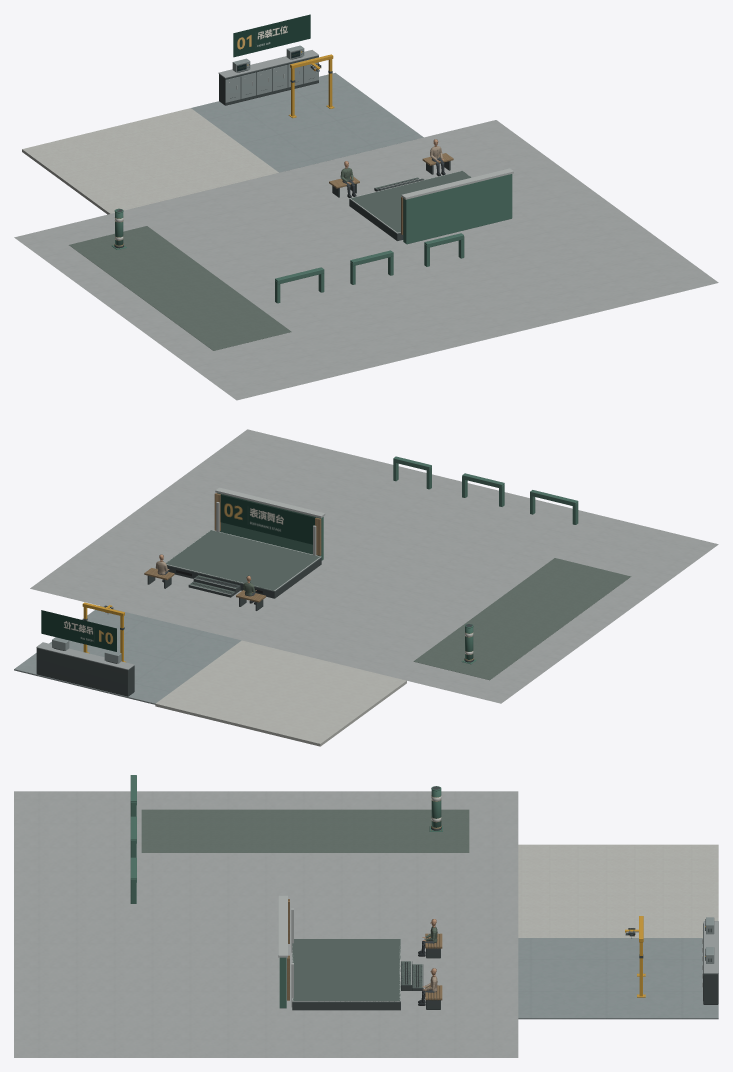
Rendered from drive-nearfield.glb.
The picture shows the model from 3 angles, top to bottom: view 1: azimuth 30°, elevation 25°; view 2: azimuth 150°, elevation 25°; view 3: azimuth 270°, elevation 25°; orthographic projection. The views are drawn at different scales.
Parts seen in each view (by area): view 1: NF_YardFloor, NF_GalleryFloor, NF_LabFloor, NF_SlalomLane, NF_StageBackdrop, NF_LabBench, NF_StageDeck, NF_LabSign, NF_GateHeaders, NF_HoistStatic; view 2: NF_YardFloor, NF_GalleryFloor, NF_SlalomLane, NF_LabFloor, NF_StageDeck, NF_StageBackdrop, NF_LabBench, NF_LabSign, NF_GateHeaders, NF_Seats, NF_HoistStatic; view 3: NF_YardFloor, NF_GalleryFloor, NF_LabFloor, NF_SlalomLane, NF_StageDeck, NF_StageBackdrop, NF_LabBench, NF_GateHeaders, NF_Seats, NF_PillarTemplate, NF_HoistStatic.
Part boxes in pixels (left/top/right/bottom): NF_YardFloor: left=14, top=120, right=718, bottom=400; NF_GalleryFloor: left=22, top=108, right=278, bottom=214; NF_LabFloor: left=191, top=72, right=423, bottom=172; NF_SlalomLane: left=69, top=226, right=291, bottom=350; NF_StageBackdrop: left=401, top=168, right=513, bottom=244; NF_LabBench: left=218, top=45, right=318, bottom=105; NF_StageDeck: left=349, top=170, right=471, bottom=240; NF_LabSign: left=233, top=14, right=310, bottom=57; NF_GateHeaders: left=275, top=233, right=464, bottom=303; NF_HoistStatic: left=288, top=54, right=334, bottom=118; NF_YardFloor: left=30, top=429, right=718, bottom=703; NF_GalleryFloor: left=155, top=640, right=406, bottom=746; NF_SlalomLane: left=413, top=558, right=631, bottom=680; NF_LabFloor: left=14, top=606, right=241, bottom=704; NF_StageDeck: left=165, top=529, right=321, bottom=598; NF_StageBackdrop: left=214, top=487, right=325, bottom=560; NF_LabBench: left=36, top=637, right=134, bottom=696; NF_LabSign: left=41, top=610, right=116, bottom=651; NF_GateHeaders: left=393, top=456, right=578, bottom=524; NF_Seats: left=144, top=568, right=265, bottom=610; NF_HoistStatic: left=82, top=602, right=125, bottom=662; NF_YardFloor: left=14, top=791, right=518, bottom=1057; NF_GalleryFloor: left=518, top=844, right=718, bottom=937; NF_LabFloor: left=518, top=938, right=718, bottom=1019; NF_SlalomLane: left=141, top=809, right=469, bottom=852; NF_StageDeck: left=292, top=939, right=423, bottom=1010; NF_StageBackdrop: left=278, top=895, right=293, bottom=1008; NF_LabBench: left=702, top=917, right=718, bottom=1004; NF_GateHeaders: left=130, top=775, right=136, bottom=903; NF_Seats: left=425, top=933, right=442, bottom=1009; NF_PillarTemplate: left=429, top=786, right=442, bottom=831; NF_HoistStatic: left=625, top=916, right=645, bottom=997.
Bounding box in the file's own units: 20 × 2.72 × 22.37.
37 materials, 16 textured.
